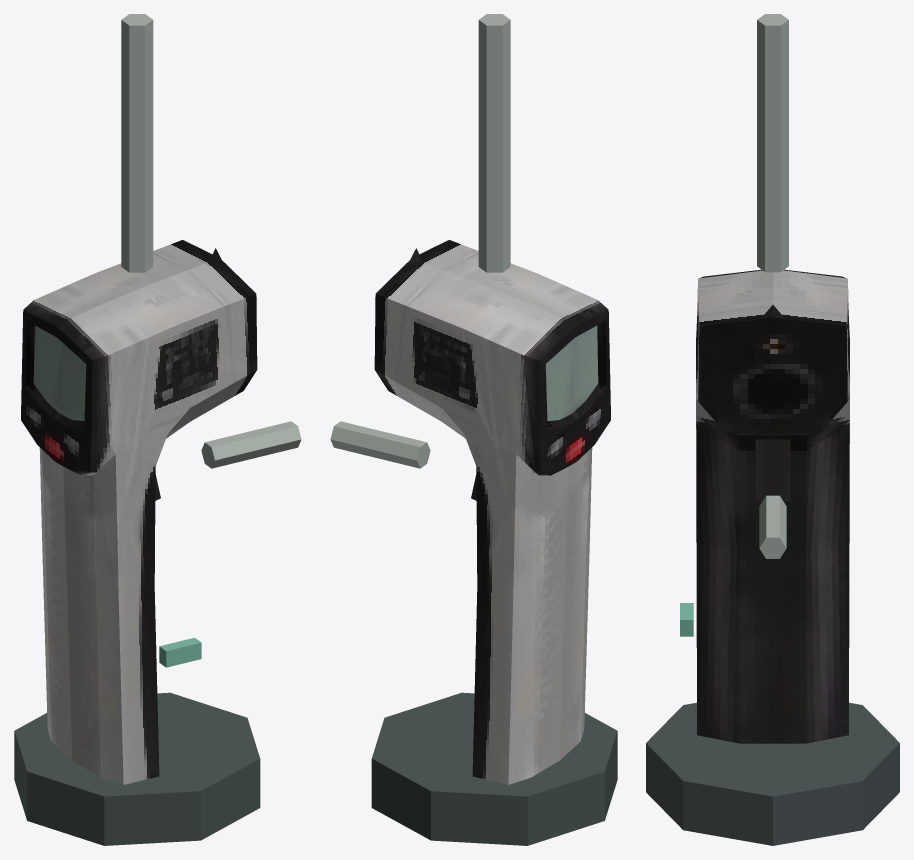
The model's file is blender_thermal_beacon_2_node.glb.
3 views of the same model, side by side, from view 1: azimuth 30°, elevation 25°; view 2: azimuth 150°, elevation 25°; view 3: azimuth 270°, elevation 25° (orthographic).
Visible parts, largest first — view 1: blender_thermal_beacon_2_node; view 2: blender_thermal_beacon_2_node; view 3: blender_thermal_beacon_2_node.
Part boxes in pixels (bbox=[...]): blender_thermal_beacon_2_node: bbox=[14, 14, 301, 845]; blender_thermal_beacon_2_node: bbox=[330, 14, 617, 845]; blender_thermal_beacon_2_node: bbox=[646, 14, 899, 845].
Size of the model in its own units: 0.068 by 0.188 by 0.056.
Materials: 1 (1 with a texture image).
